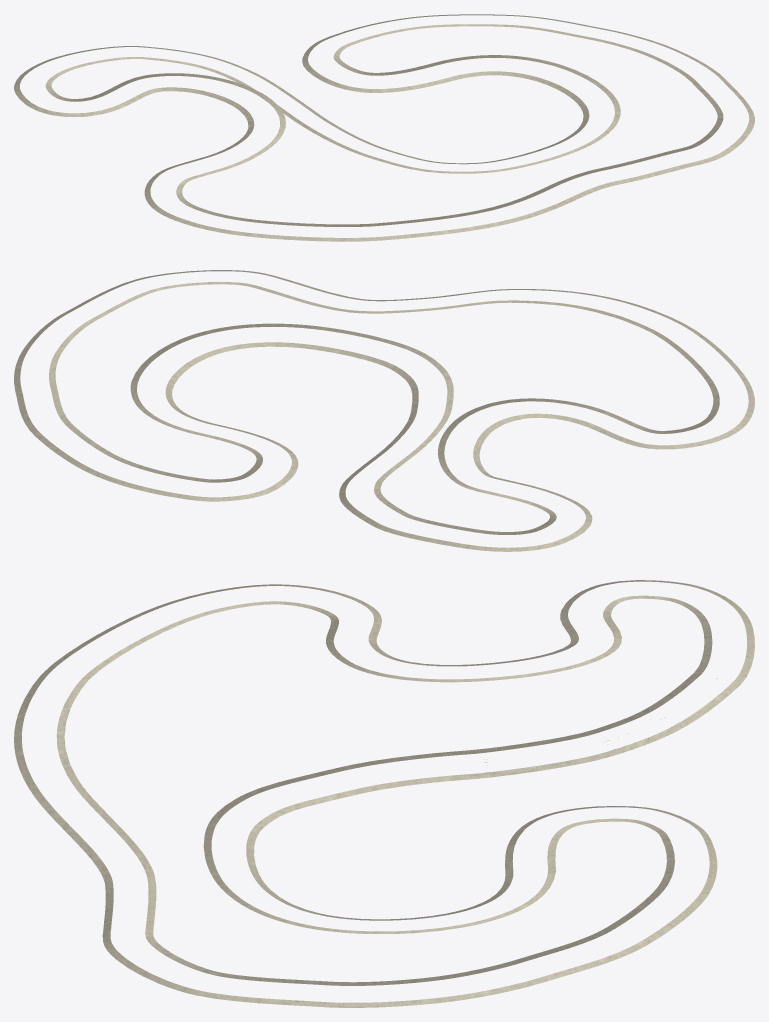
Rendered from Road_map_01.fbx.
3 renders of one model, top to bottom at view 1: azimuth 30°, elevation 25°; view 2: azimuth 150°, elevation 25°; view 3: azimuth 270°, elevation 25°, orthographic. The views are drawn at different scales.
Visible parts, largest first — view 1: Object004; view 2: Object004; view 3: Object004.
Part boxes in pixels (bbox=[...]): Object004: bbox=[14, 14, 754, 241]; Object004: bbox=[14, 270, 754, 551]; Object004: bbox=[14, 580, 754, 1007].
Size of the model in its own units: 105218 by 7521 by 84575.
Materials: 2 (2 with a texture image).
